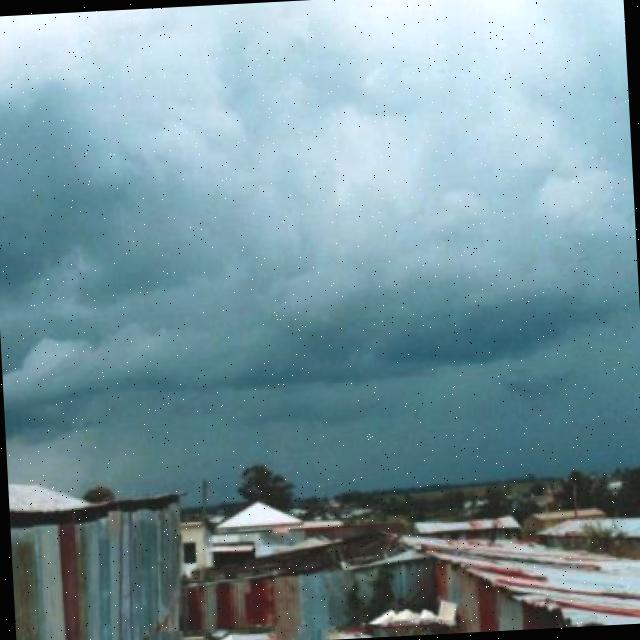St: (1, 1, 640, 463)
